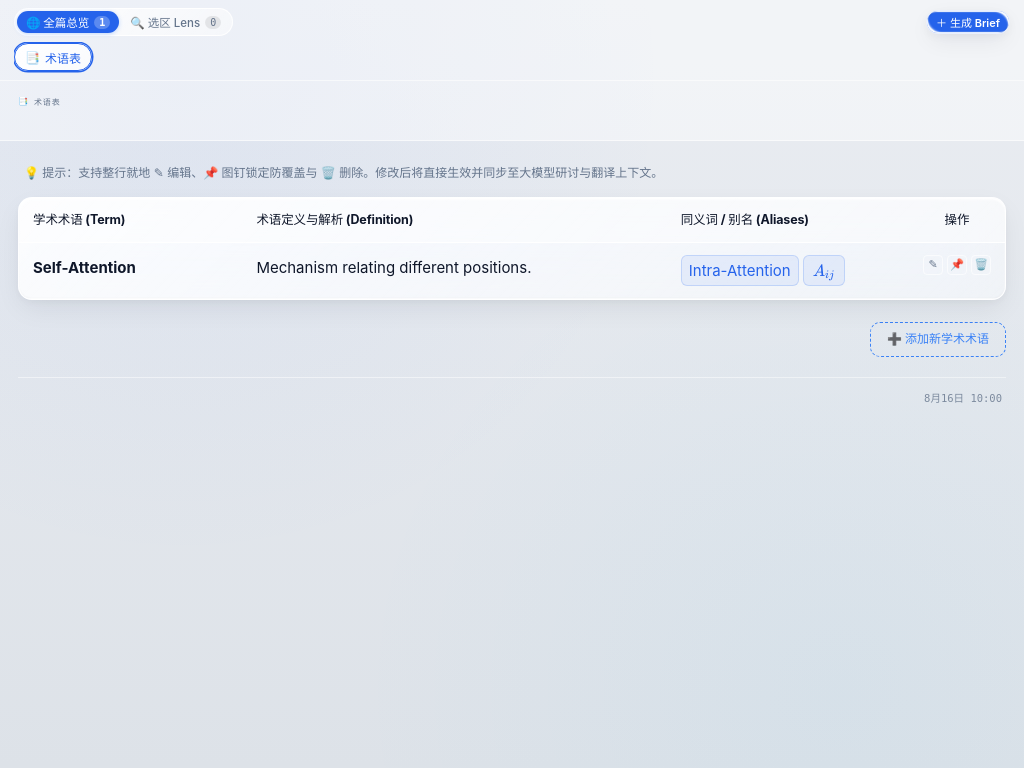
Test: ArtifactPanel › supports Glossary & Symbol Table editing, pinning, deletion and adding rows
Expected: the text "Self-Attention" is shown, 33,258 -> 136,277
Expected: the text "Mechanism relating different positions." is shown, 256,258 -> 532,277
Note: Toggle Pin on Glossary item
Click the button named "图钉锁定 Self-Attention". click: x=957, y=265
box: 947,255 -> 967,275
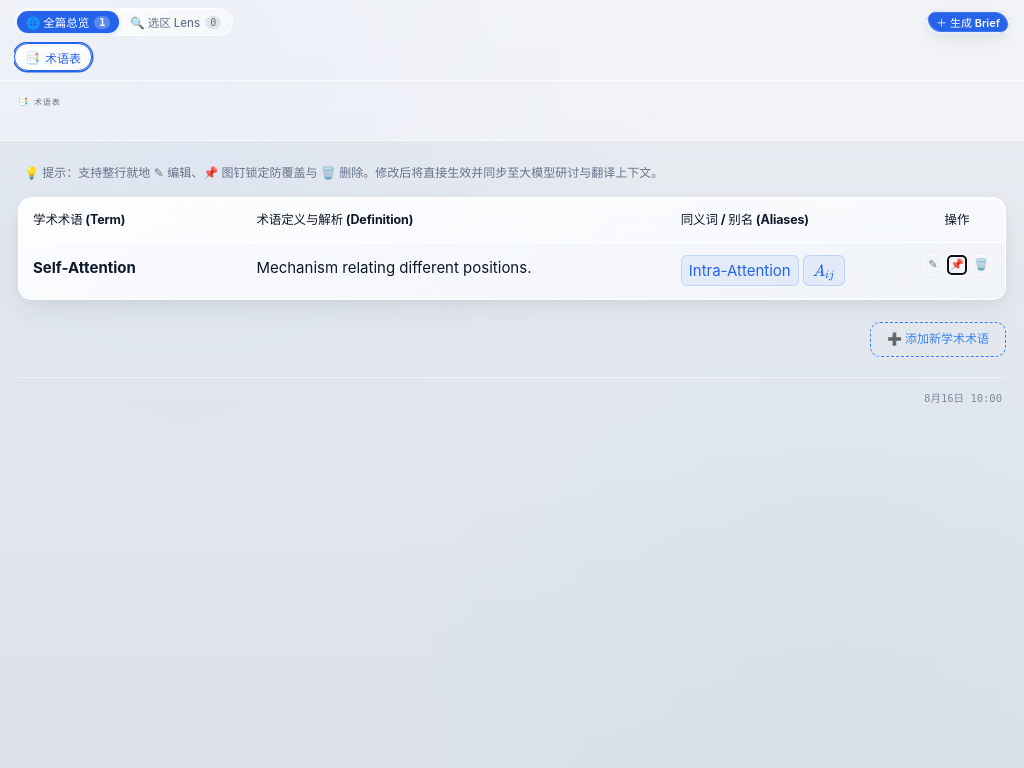
Note: Delete Glossary item
Click the button named "删除 Self-Attention". click: x=981, y=265
box: 971,255 -> 991,275
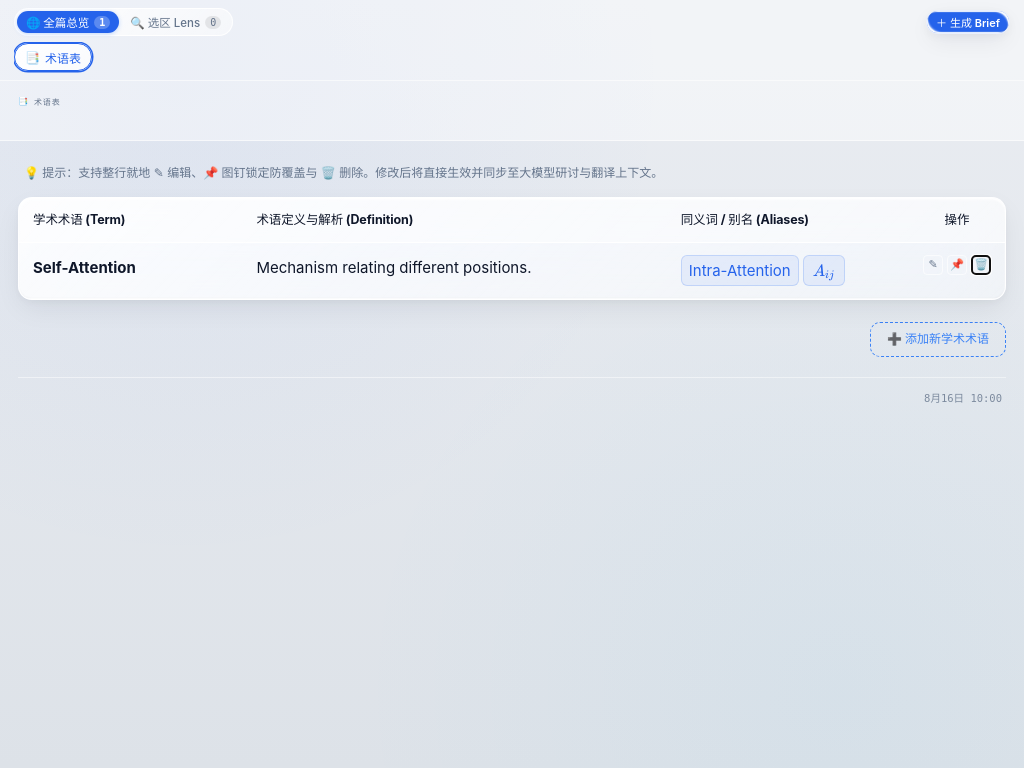
Note: Add new row button
Click the button "➕ 添加新学术术语". click: x=938, y=339
box: 870,322 -> 1006,356
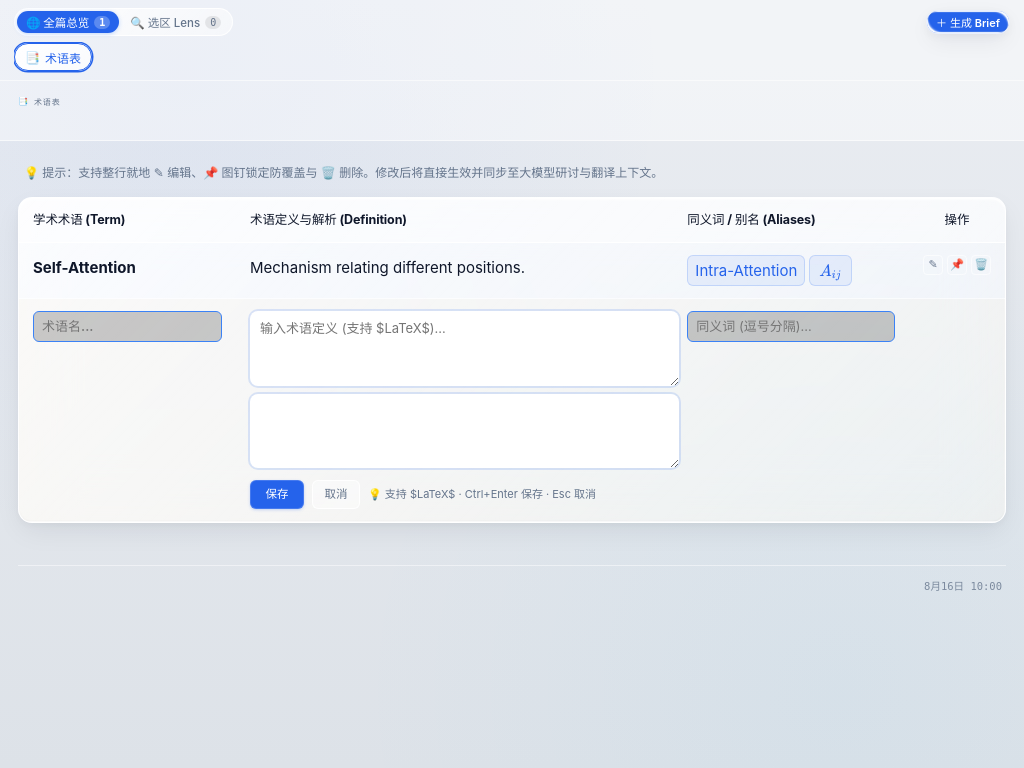
Expected: the field with placeholder "术语名..." is shown, 33,311 -> 222,342
